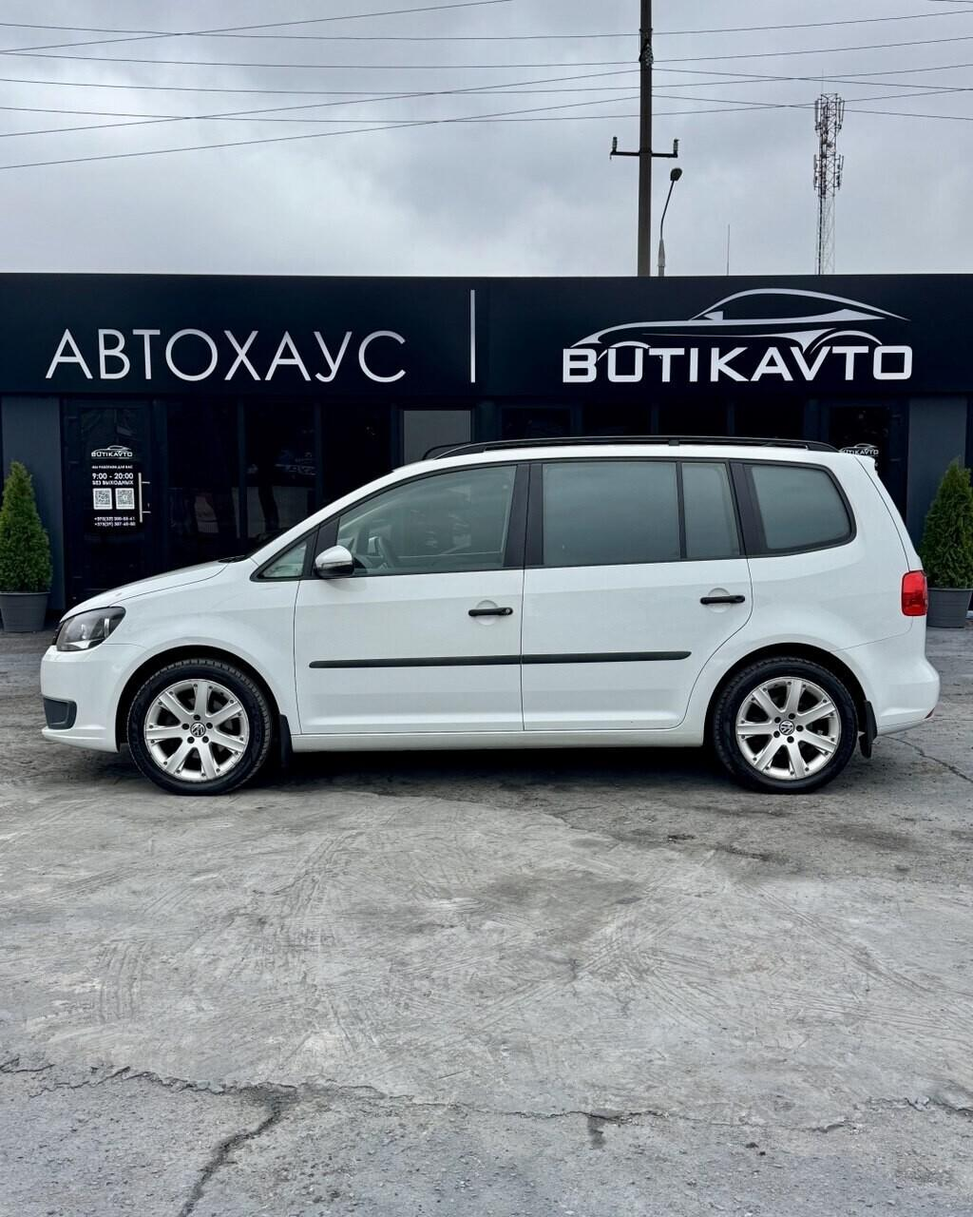Touran_2010-2015: (32, 431, 947, 811)
